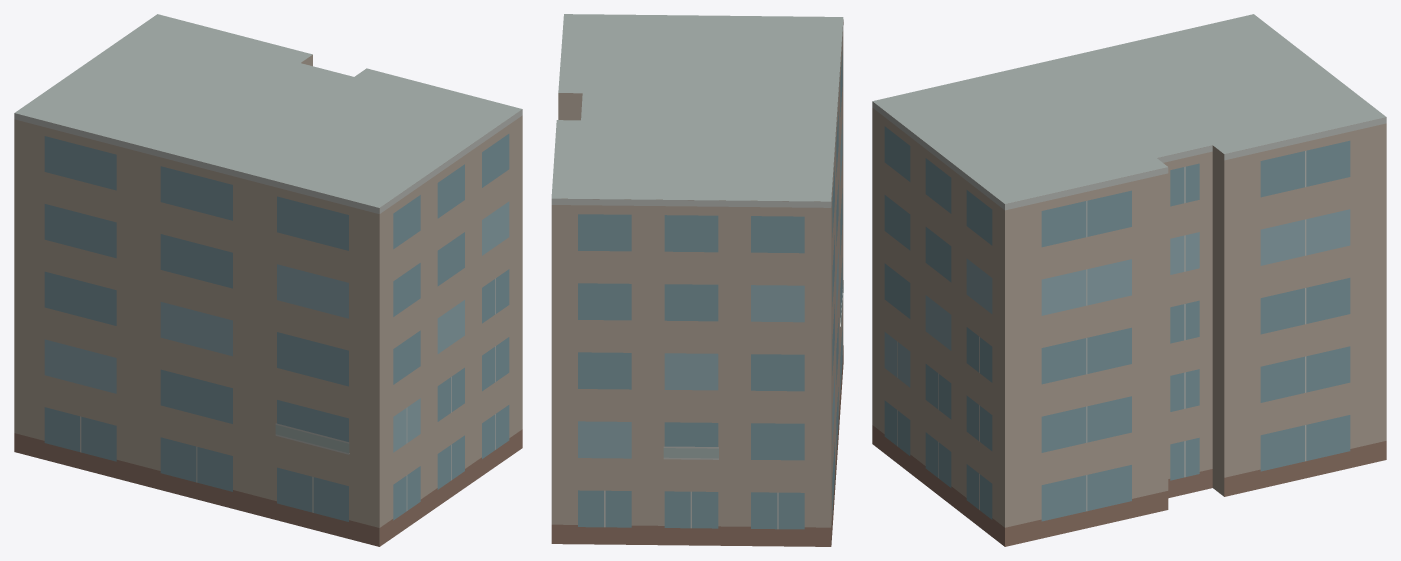
Rendered from survey-upis-32575393.glb.
3 renders of one model, left to right at view 1: azimuth 30°, elevation 25°; view 2: azimuth 150°, elevation 25°; view 3: azimuth 270°, elevation 25°, orthographic.
Parts seen in each view (by area): view 1: survey-upis-32575393.tmp; view 2: survey-upis-32575393.tmp; view 3: survey-upis-32575393.tmp.
Boxes of the visible parts, x1,y1,x2,y2 form: survey-upis-32575393.tmp: [14, 14, 522, 546]; survey-upis-32575393.tmp: [551, 14, 843, 546]; survey-upis-32575393.tmp: [872, 14, 1386, 546].
Bounding box in the file's own units: 15.83 × 13.3 × 18.1.
